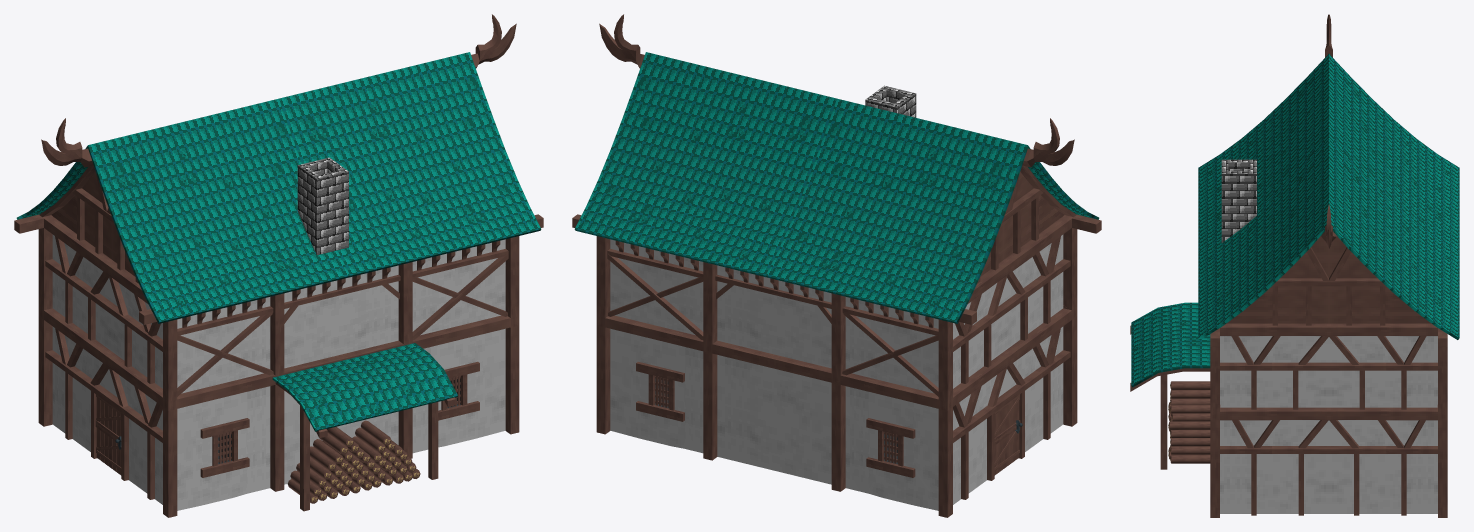
Rendered from maison2.glb.
The picture shows the model from 3 angles, left to right: view 1: azimuth 30°, elevation 25°; view 2: azimuth 150°, elevation 25°; view 3: azimuth 270°, elevation 25°; orthographic projection. The views are drawn at different scales.
Visible parts, largest first — view 1: Simple2; view 2: Simple2; view 3: Simple2.
Part boxes in pixels (left/top/right/bottom): Simple2: left=14, top=14, right=543, bottom=517; Simple2: left=572, top=14, right=1101, bottom=517; Simple2: left=1130, top=14, right=1459, bottom=517.
Size of the model in its own units: 6.67 by 4.86 by 4.37.
1 material, 1 textured.
